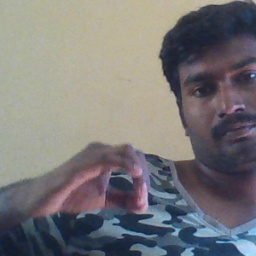O: (37, 137, 154, 233)
